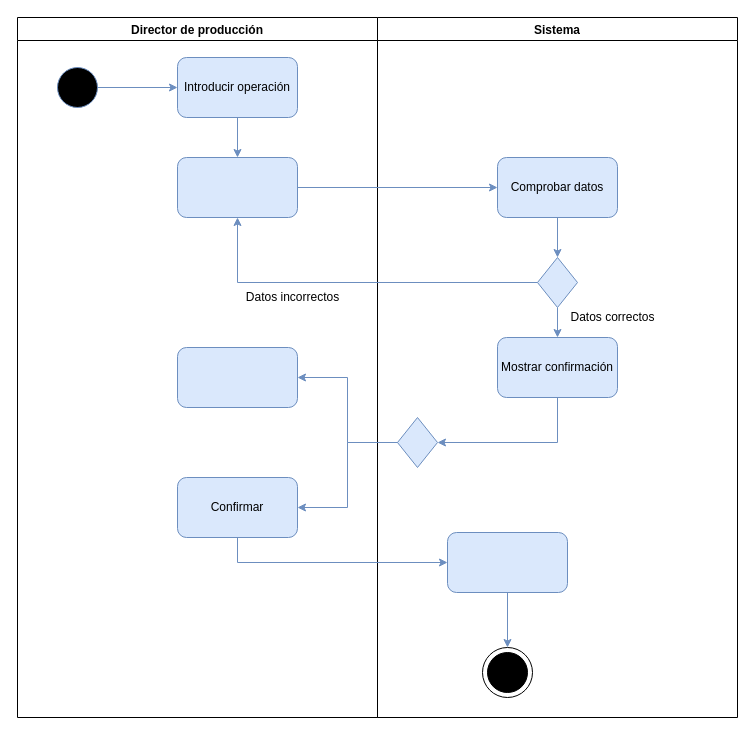
This 755x735 diagram has some shape labels left out. The centre of each missing label's shape, as x and y in pixels:
"Cancelar" goes at point (237, 377).
"Cubrir datos" goes at point (237, 187).
"Registrar OF" goes at point (507, 562).
